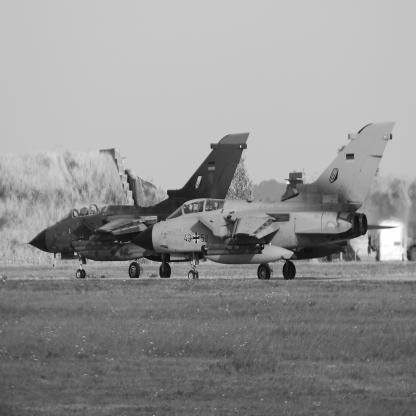Tornado: (119, 121, 401, 281), (20, 133, 251, 280)
